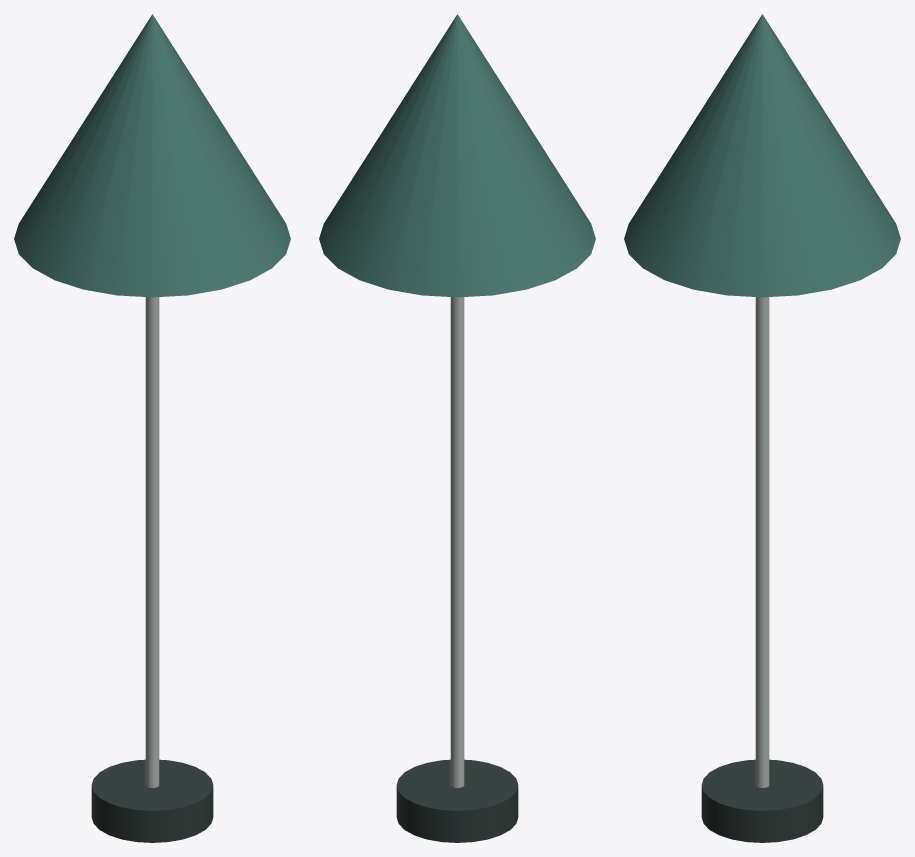
The model's file is industrial-lamp.glb.
3 renders of one model, left to right at view 1: azimuth 30°, elevation 25°; view 2: azimuth 150°, elevation 25°; view 3: azimuth 270°, elevation 25°, orthographic.
Visible parts, largest first — view 1: ConicalShade, StandBase, LampPost; view 2: ConicalShade, StandBase, LampPost; view 3: ConicalShade, StandBase, LampPost.
Part boxes in pixels (x1,y1,x2,y2): ConicalShade: (14, 14, 290, 297); StandBase: (91, 759, 213, 842); LampPost: (145, 297, 159, 787); ConicalShade: (319, 14, 595, 297); StandBase: (396, 759, 518, 842); LampPost: (450, 297, 464, 787); ConicalShade: (624, 14, 900, 297); StandBase: (701, 759, 823, 842); LampPost: (755, 297, 769, 787).
Bounding box in the file's own units: 0.5 × 1.6 × 0.5.
